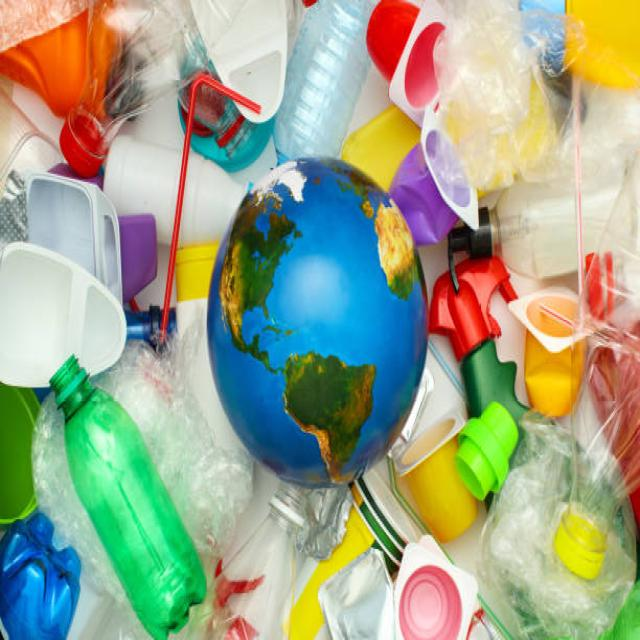plastic: (420, 3, 639, 640), (1, 1, 211, 640)
